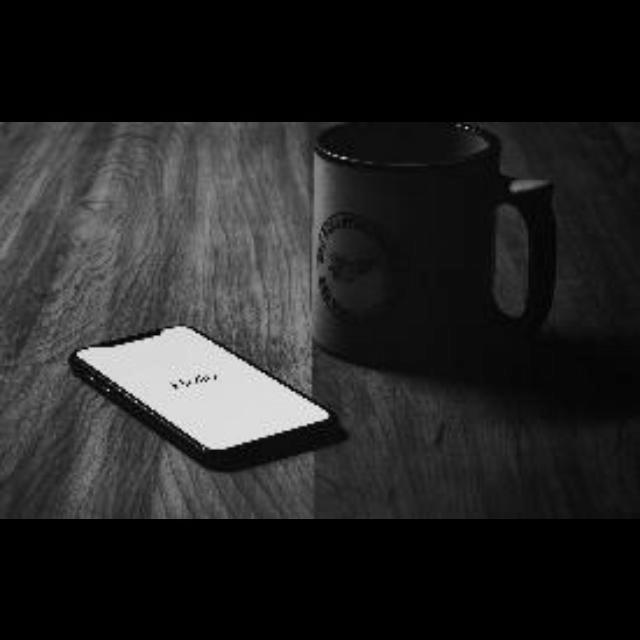fake: (64, 312, 346, 467)
